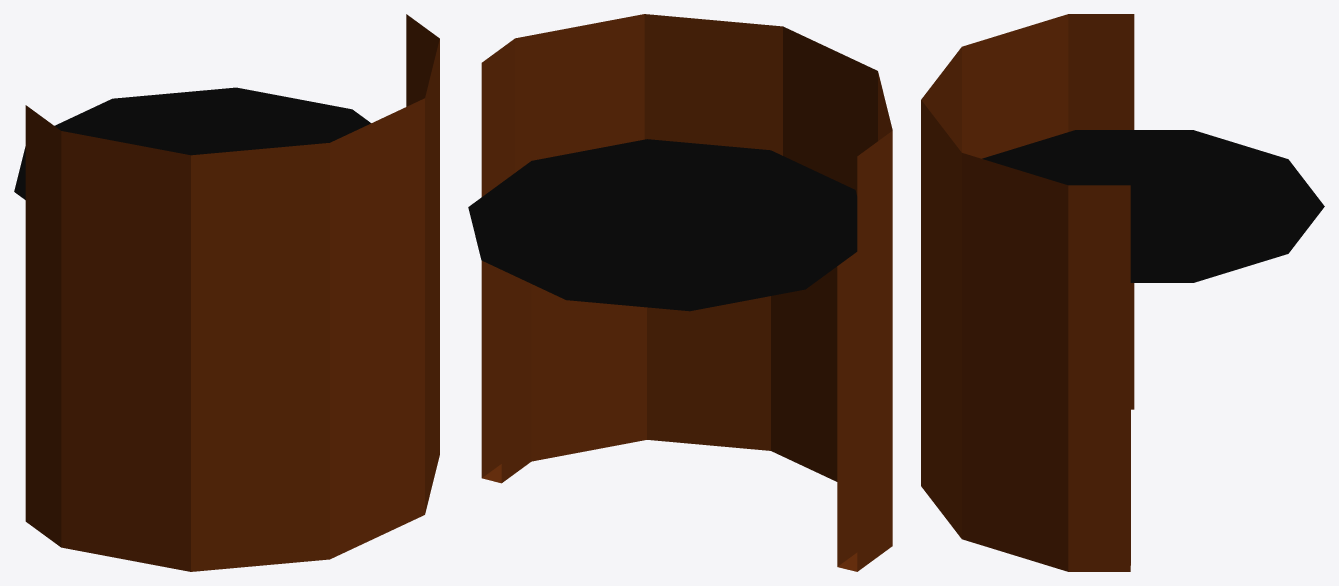
The model's file is tunnelbuiten.fbx.
3 renders of one model, left to right at view 1: azimuth 30°, elevation 25°; view 2: azimuth 150°, elevation 25°; view 3: azimuth 270°, elevation 25°, orthographic. The views are drawn at different scales.
Parts seen in each view (by area): view 1: Cylinder; view 2: Cylinder; view 3: Cylinder.
Boxes of the visible parts, <box> form: Cylinder: <box>14,14,439,571</box>; Cylinder: <box>468,14,892,571</box>; Cylinder: <box>921,14,1324,571</box>.
Bounding box in the file's own units: 971 × 1021 × 966.
